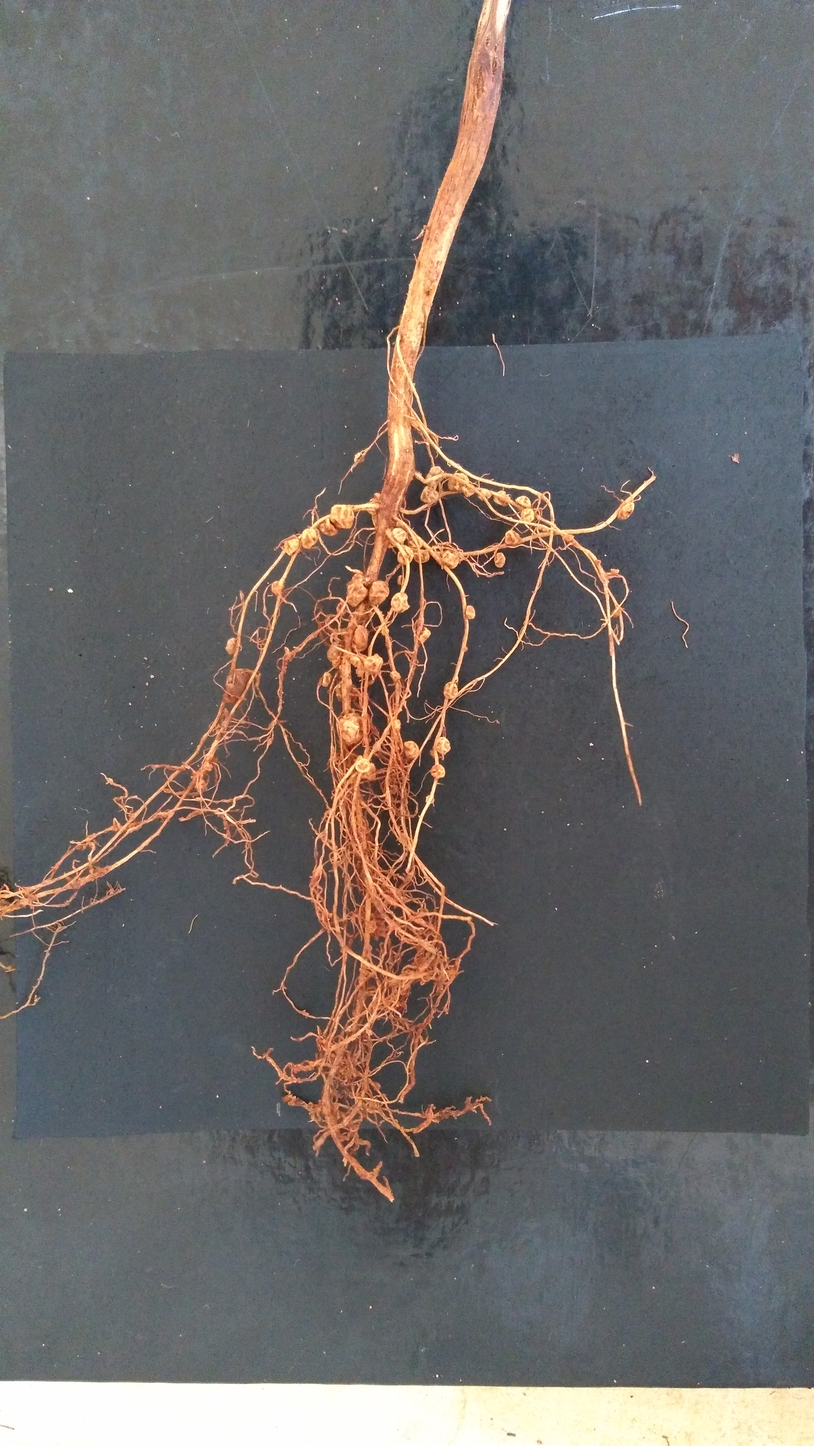nodule: (337, 712, 370, 746), (223, 669, 253, 705), (361, 904, 388, 938), (346, 573, 368, 608), (330, 504, 355, 529), (336, 679, 360, 703), (369, 580, 390, 606), (326, 640, 344, 669), (429, 737, 451, 759), (352, 624, 369, 652), (424, 466, 445, 488), (350, 653, 369, 677), (387, 527, 407, 548), (391, 592, 410, 614), (329, 1077, 348, 1099), (301, 526, 319, 549), (448, 473, 469, 492), (439, 550, 460, 569), (318, 517, 338, 536), (316, 1032, 335, 1052), (420, 485, 439, 504), (397, 544, 414, 565), (364, 654, 383, 672), (403, 740, 419, 761), (284, 537, 301, 556), (617, 502, 635, 519), (360, 762, 376, 781), (314, 1050, 337, 1063), (493, 490, 510, 507), (225, 638, 241, 655), (443, 681, 458, 699), (504, 530, 520, 546), (515, 495, 532, 510), (282, 1094, 303, 1106), (418, 626, 431, 645), (520, 508, 535, 524), (414, 549, 430, 564), (430, 764, 445, 780), (355, 758, 371, 773), (407, 535, 423, 549), (367, 498, 380, 515), (410, 411, 421, 431), (336, 599, 349, 615), (271, 580, 284, 596), (462, 483, 476, 497), (194, 779, 207, 793), (494, 553, 506, 568), (478, 489, 492, 501), (300, 1060, 314, 1072), (322, 671, 332, 687), (465, 605, 475, 620), (389, 671, 401, 682), (354, 452, 365, 463), (203, 760, 213, 772), (371, 514, 380, 527), (561, 533, 574, 541), (611, 607, 621, 617), (372, 1081, 381, 1092), (425, 794, 434, 804), (380, 626, 389, 635), (397, 575, 405, 585), (365, 1027, 373, 1036), (610, 568, 620, 575), (395, 520, 405, 527), (283, 646, 290, 655), (374, 492, 382, 499), (595, 559, 601, 565), (465, 646, 468, 652)
